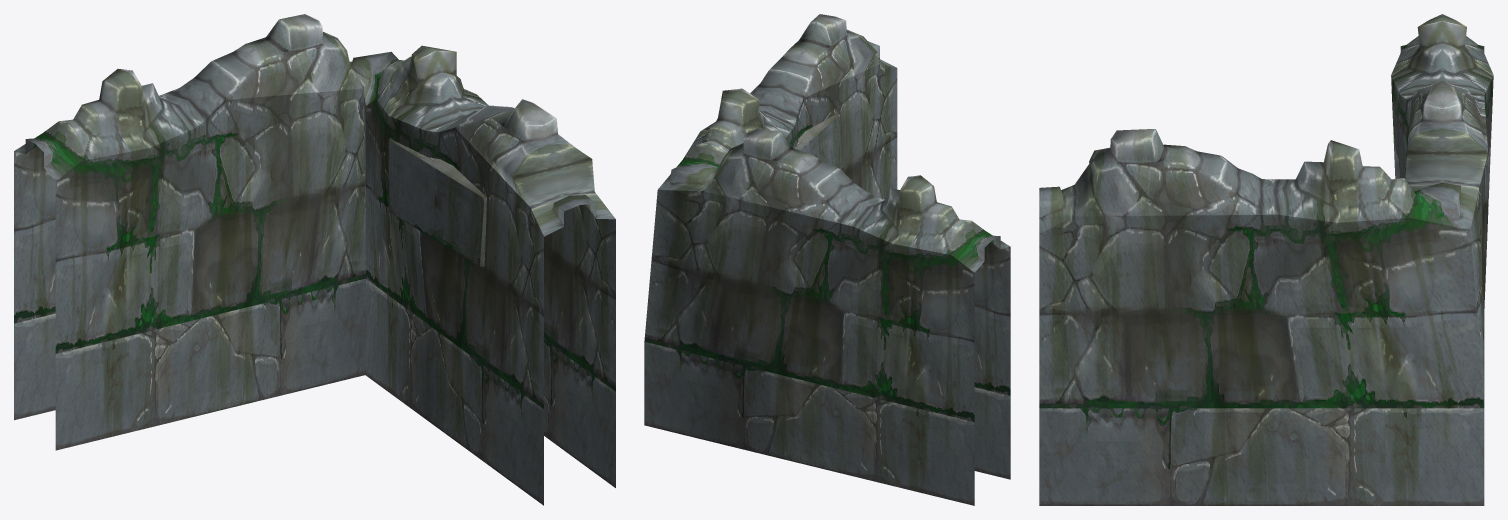
File: stemple_half_concave_03.fbx
3 views of the same model, side by side, from view 1: azimuth 30°, elevation 25°; view 2: azimuth 150°, elevation 25°; view 3: azimuth 270°, elevation 25° (orthographic). The views are drawn at different scales.
Visible parts, largest first — view 1: stemple_half_concave_03-0; view 2: stemple_half_concave_03-0; view 3: stemple_half_concave_03-0.
Part boxes in pixels (x1,y1,x2,y2): stemple_half_concave_03-0: (14,14,615,505); stemple_half_concave_03-0: (644,14,1010,505); stemple_half_concave_03-0: (1039,14,1493,505).
Size of the model in its own units: 4.51 by 3.94 by 4.51.
